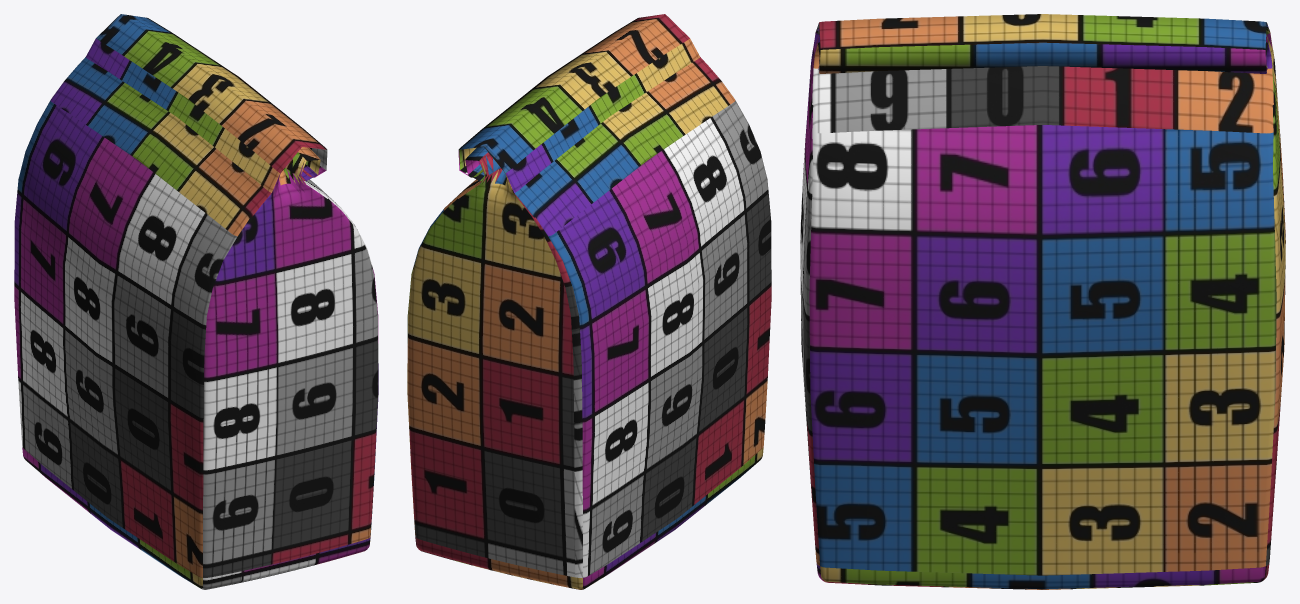
The model's file is grechka_pack.FBX.
3 renders of one model, left to right at view 1: azimuth 30°, elevation 25°; view 2: azimuth 150°, elevation 25°; view 3: azimuth 270°, elevation 25°, orthographic. The views are drawn at different scales.
Parts seen in each view (by area): view 1: Grechka_Bag; view 2: Grechka_Bag; view 3: Grechka_Bag.
Part boxes in pixels (box(x1,y1,x2,y2)): Grechka_Bag: box(14, 14, 378, 589); Grechka_Bag: box(407, 14, 771, 589); Grechka_Bag: box(800, 14, 1285, 589).
Bounding box in the file's own units: 3.5 × 7.25 × 5.91.
1 material, 1 textured.
